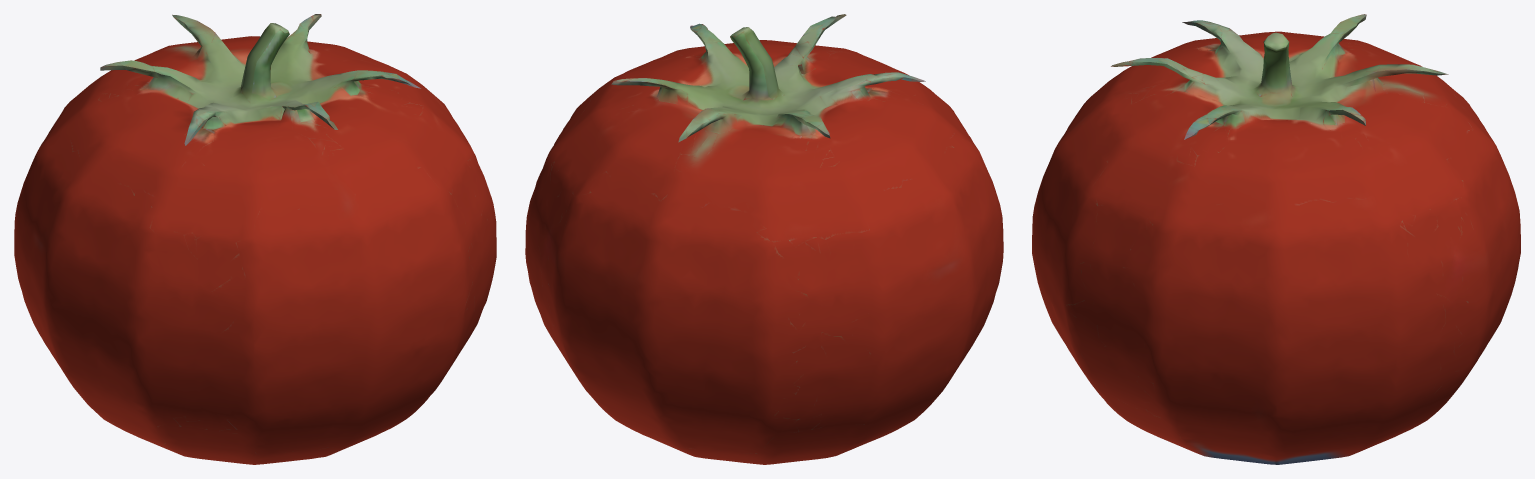
The model's file is tomato_whole.glb.
The picture shows the model from 3 angles, left to right: view 1: azimuth 30°, elevation 25°; view 2: azimuth 150°, elevation 25°; view 3: azimuth 270°, elevation 25°; orthographic projection.
Parts seen in each view (by area): view 1: Tomato; view 2: Tomato; view 3: Tomato.
Part boxes in pixels (x1,y1,x2,y2): Tomato: (14,14,496,464); Tomato: (525,14,1003,464); Tomato: (1032,14,1520,464).
Bounding box in the file's own units: 0.09 × 0.0829 × 0.09.
Materials: 1 (1 with a texture image).
